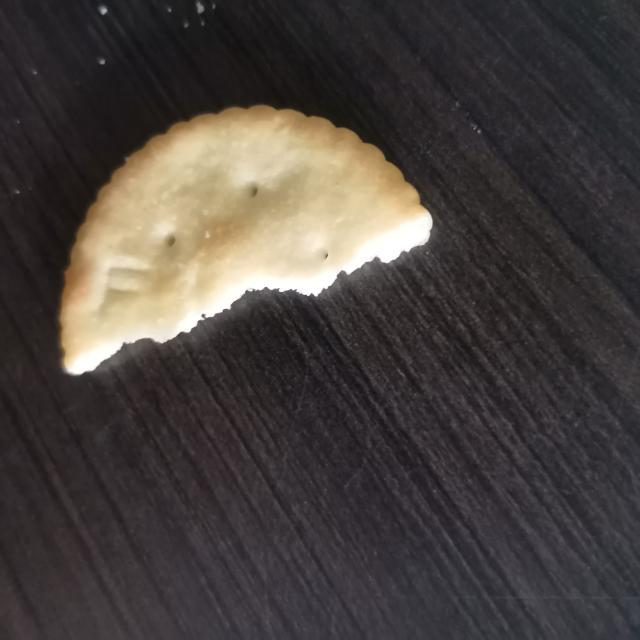Broken: (58, 103, 433, 377)
